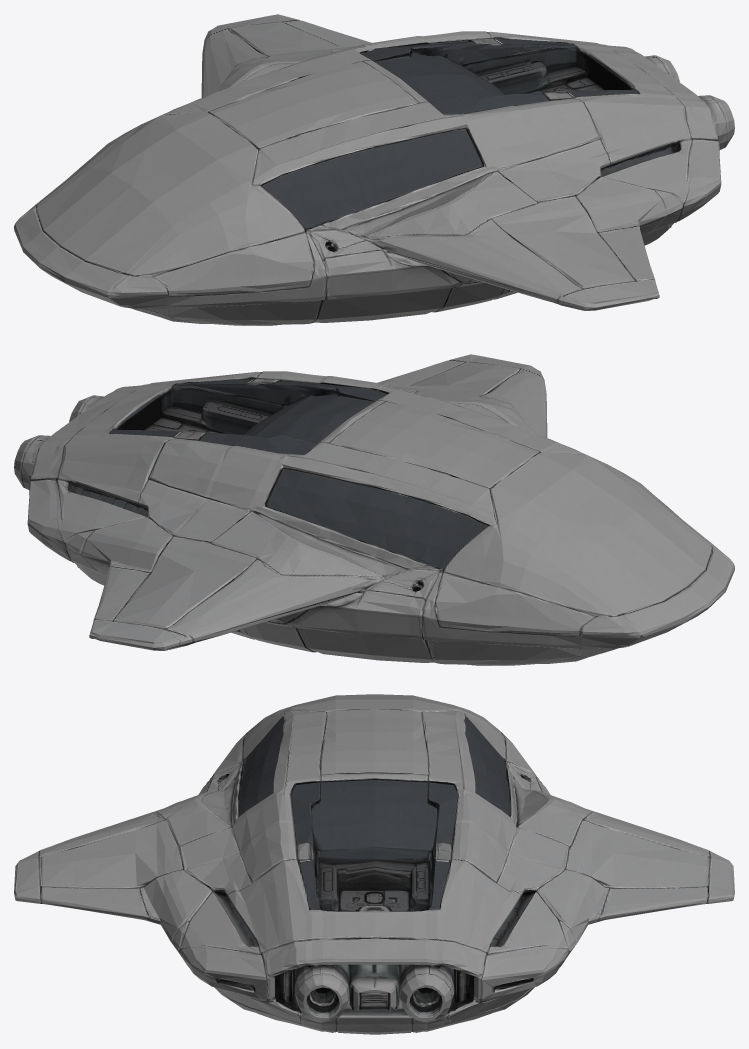
The model's file is FighterDroneType1.glb.
3 views of the same model, one above another, from view 1: azimuth 30°, elevation 25°; view 2: azimuth 150°, elevation 25°; view 3: azimuth 270°, elevation 25° (orthographic). The views are drawn at different scales.
Parts seen in each view (by area): view 1: tripo_node_55d42359-00d1-4415-88f7-c87d9d41d8dd; view 2: tripo_node_55d42359-00d1-4415-88f7-c87d9d41d8dd; view 3: tripo_node_55d42359-00d1-4415-88f7-c87d9d41d8dd.
Part boxes in pixels (bbox=[...]): tripo_node_55d42359-00d1-4415-88f7-c87d9d41d8dd: bbox=[14, 14, 734, 325]; tripo_node_55d42359-00d1-4415-88f7-c87d9d41d8dd: bbox=[14, 354, 734, 665]; tripo_node_55d42359-00d1-4415-88f7-c87d9d41d8dd: bbox=[14, 694, 734, 1034].
Bounding box in the file's own units: 0.9941 × 0.2603 × 1.
1 material, 1 textured.
